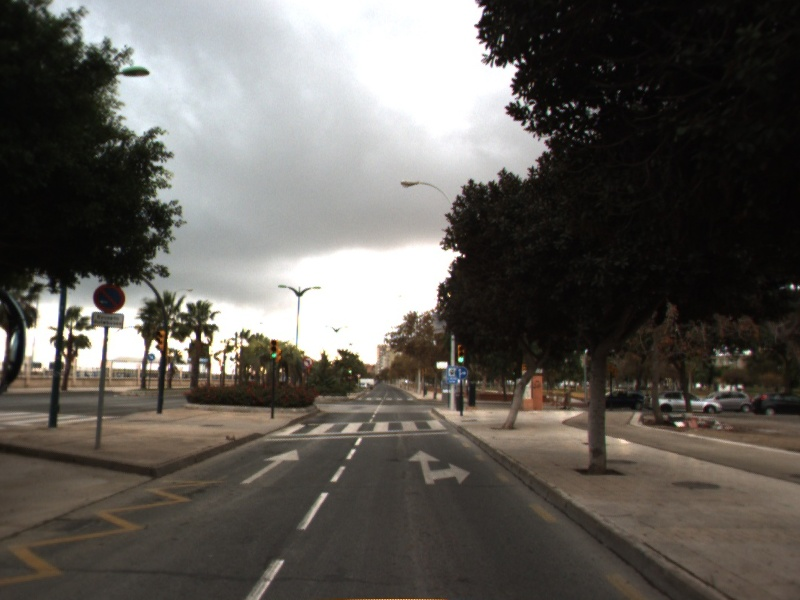STRAIGHT: (237, 448, 301, 486)
STRAIGHT_RIGHT: (406, 448, 476, 488)
